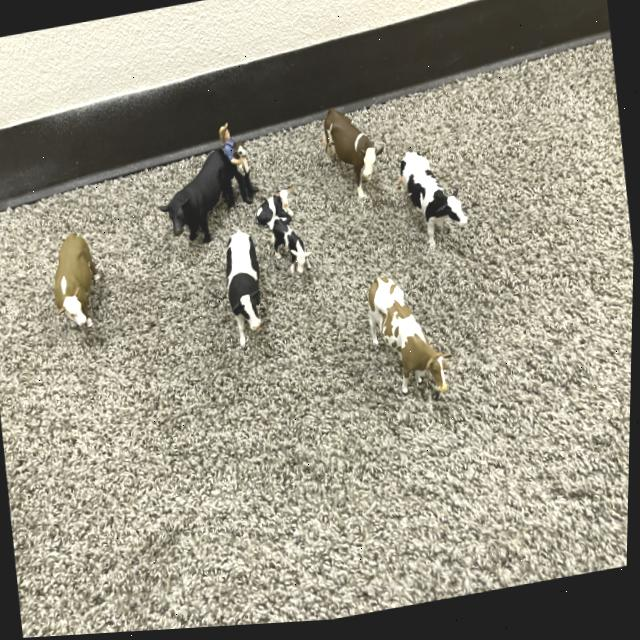cow: (340, 275, 468, 418), (152, 148, 263, 259), (385, 145, 476, 253), (299, 108, 397, 203), (49, 233, 106, 329), (224, 232, 265, 350), (260, 217, 319, 282), (251, 191, 297, 237), (233, 140, 251, 173)
person: (214, 125, 242, 165)
